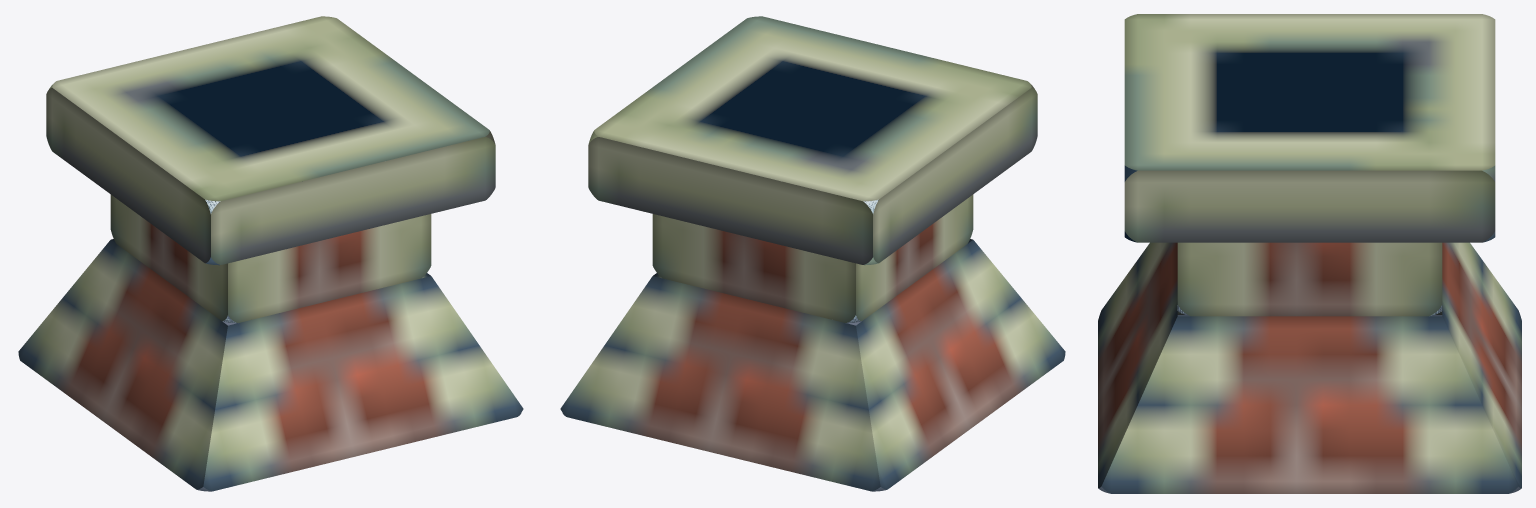
File: smeltery_top.obj
3 views of the same model, side by side, from view 1: azimuth 30°, elevation 25°; view 2: azimuth 150°, elevation 25°; view 3: azimuth 270°, elevation 25° (orthographic). The views are drawn at different scales.
Parts seen in each view (by area): view 1: cube.002, cuboid, cube.001; view 2: cube.002, cuboid, cube.001; view 3: cube.002, cuboid, cube.001.
Boxes of the visible parts, bbox=[...] form: cube.002: bbox=[46, 16, 495, 265]; cuboid: bbox=[18, 239, 523, 491]; cube.001: bbox=[110, 194, 431, 323]; cube.002: bbox=[588, 16, 1037, 265]; cuboid: bbox=[560, 239, 1065, 491]; cube.001: bbox=[652, 194, 973, 323]; cube.002: bbox=[1124, 14, 1495, 242]; cuboid: bbox=[1098, 242, 1521, 493]; cube.001: bbox=[1177, 242, 1442, 316].
Bounding box in the file's own units: 1 × 0.8125 × 1.
